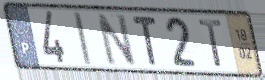2: (166, 15, 202, 69)
4: (40, 9, 67, 66)
I: (71, 11, 94, 67)
N: (94, 12, 138, 68)
T: (130, 14, 159, 68), (197, 18, 225, 70)
